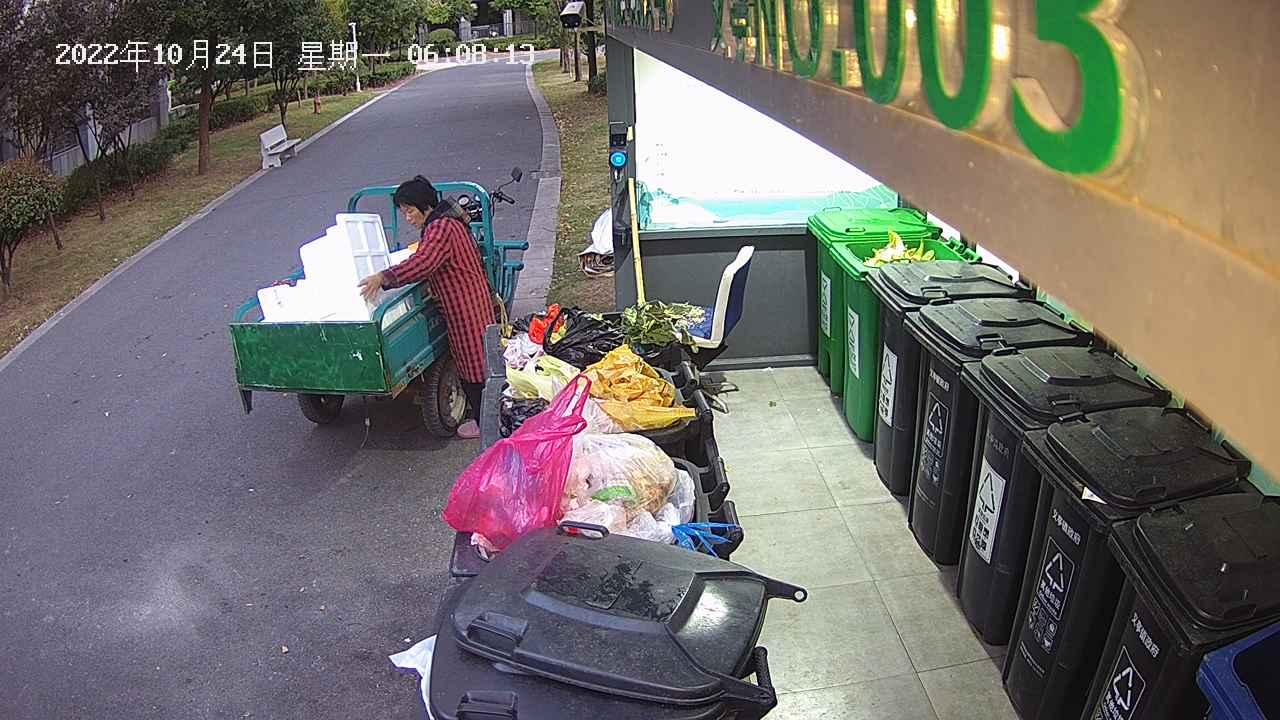person: (351, 170, 503, 442)
